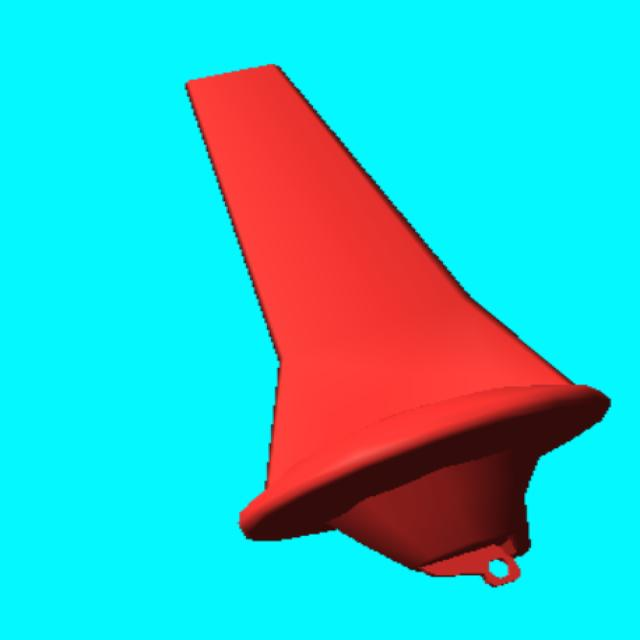RedBuoy: (188, 66, 608, 584)
